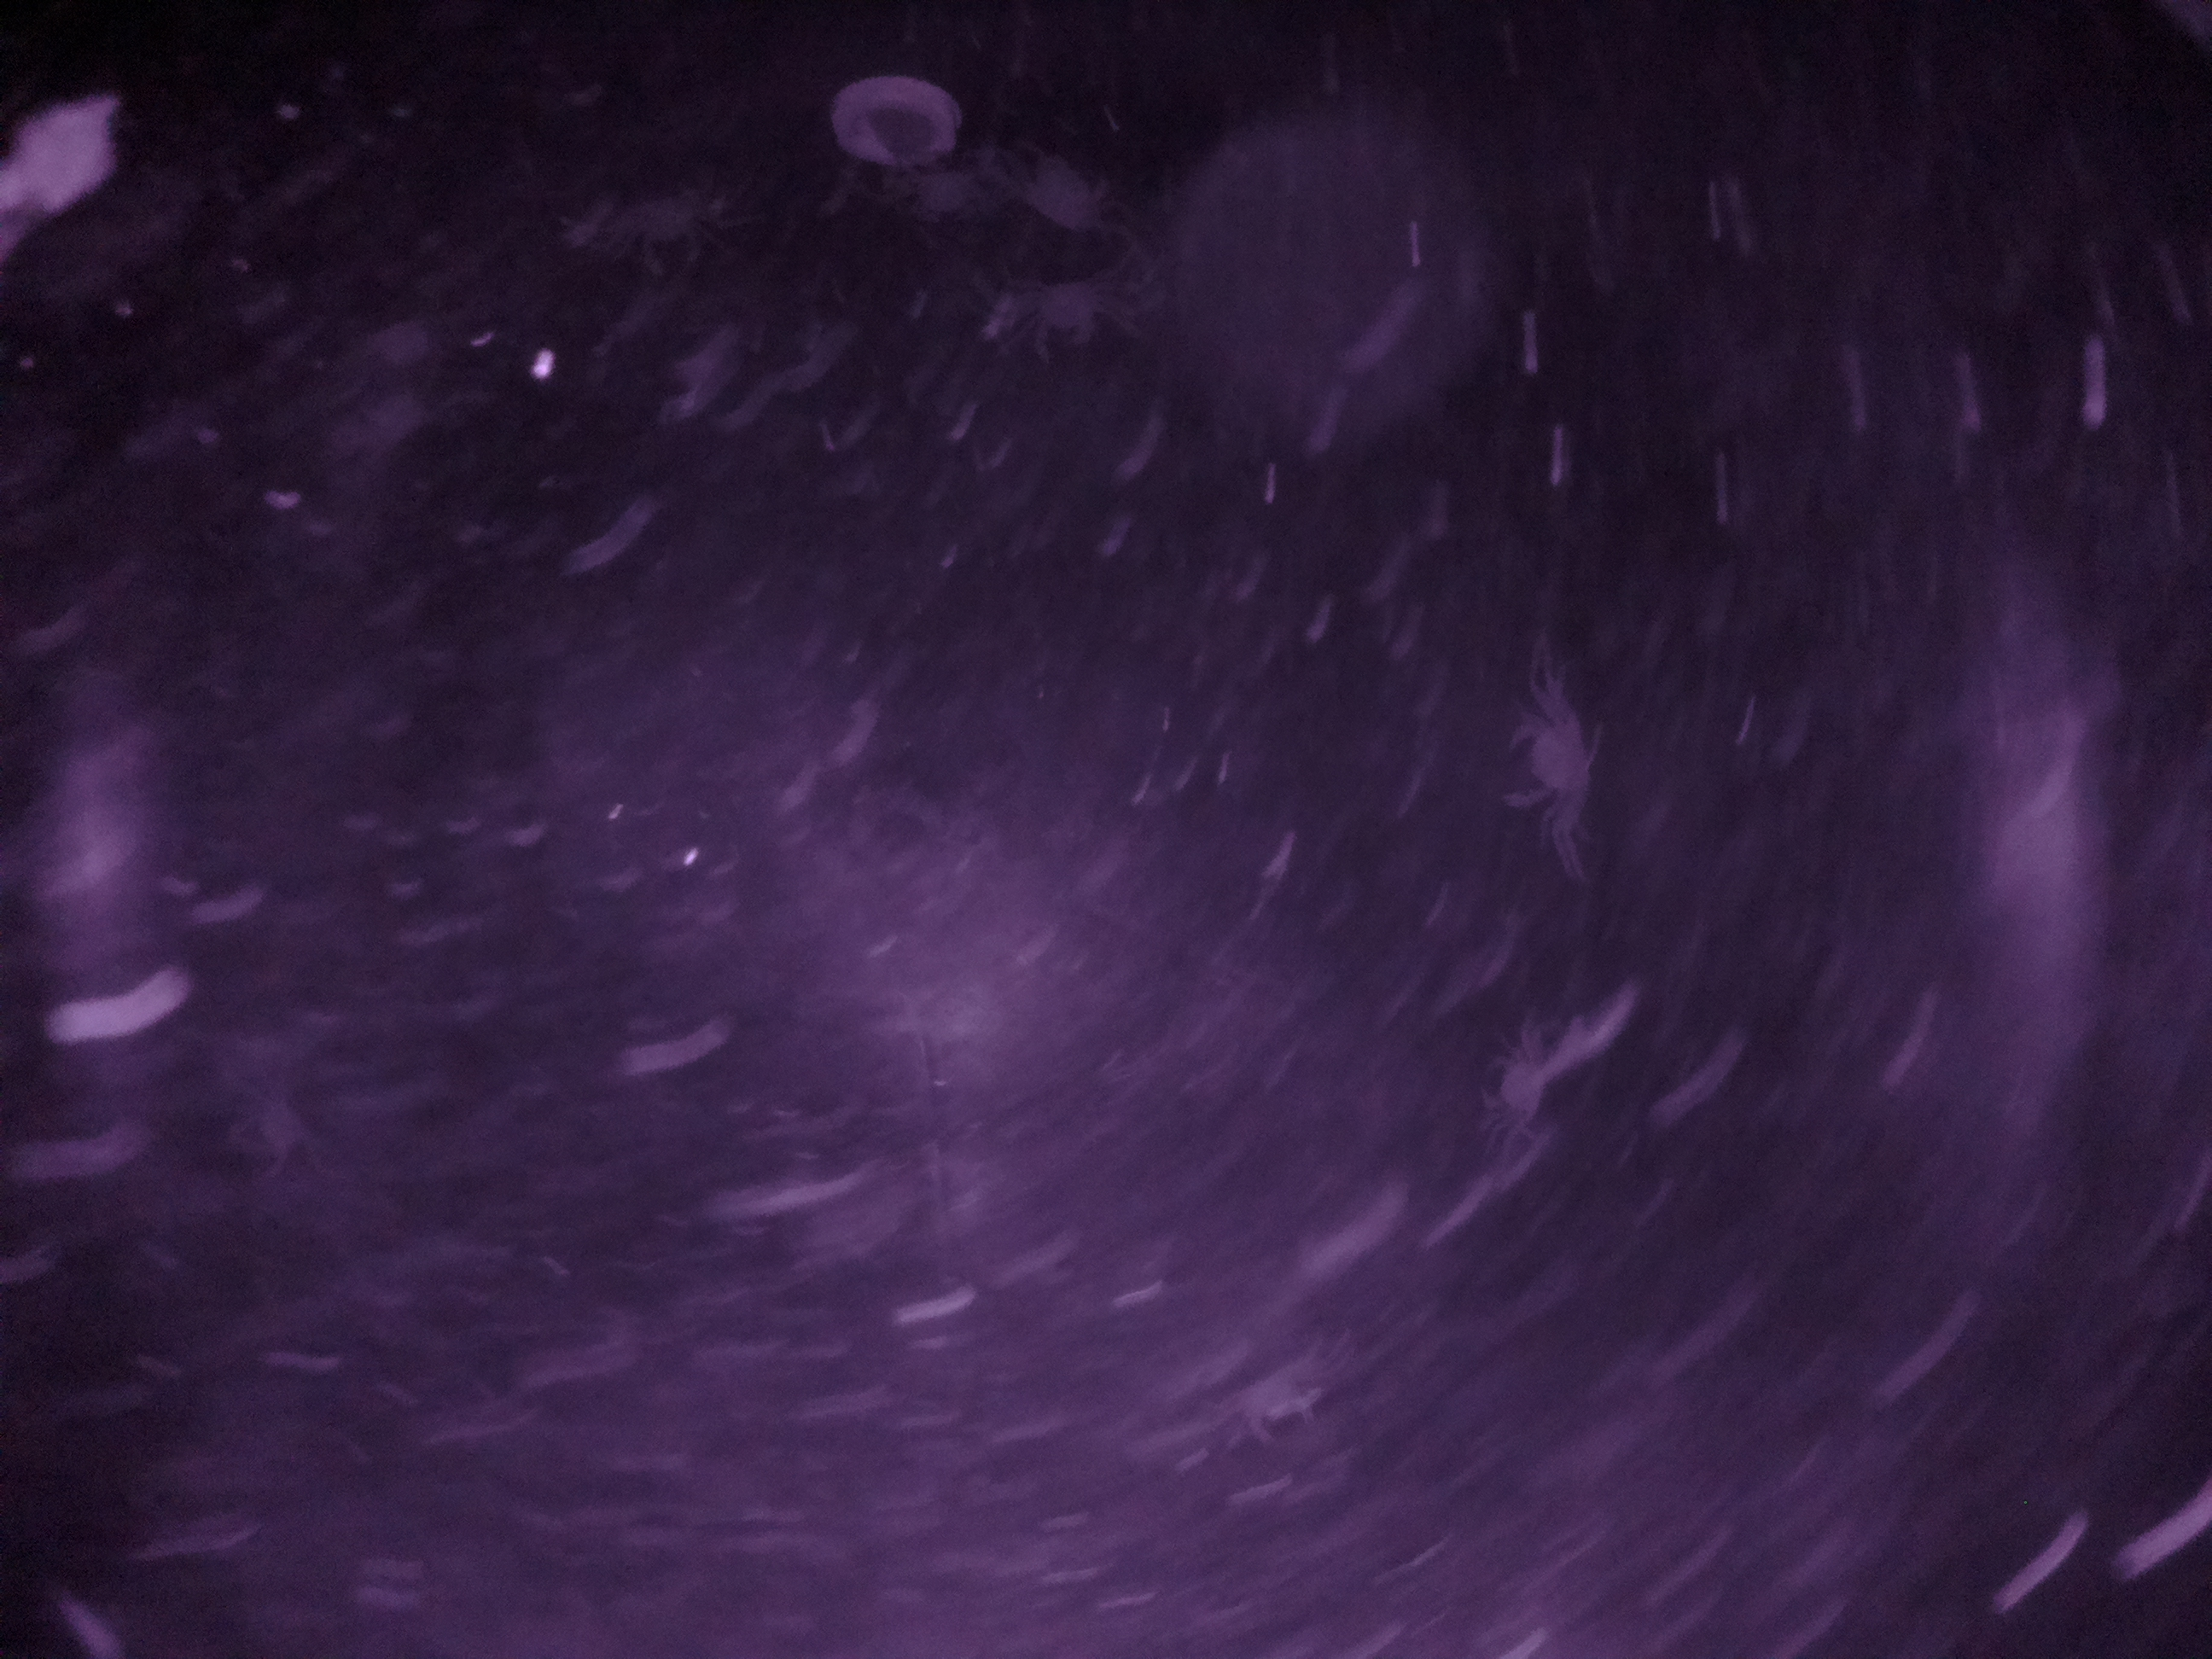Crab: (1484, 688, 1620, 836), (1010, 263, 1115, 371)
